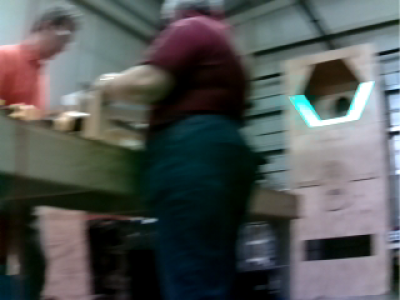target: (288, 81, 374, 128)
